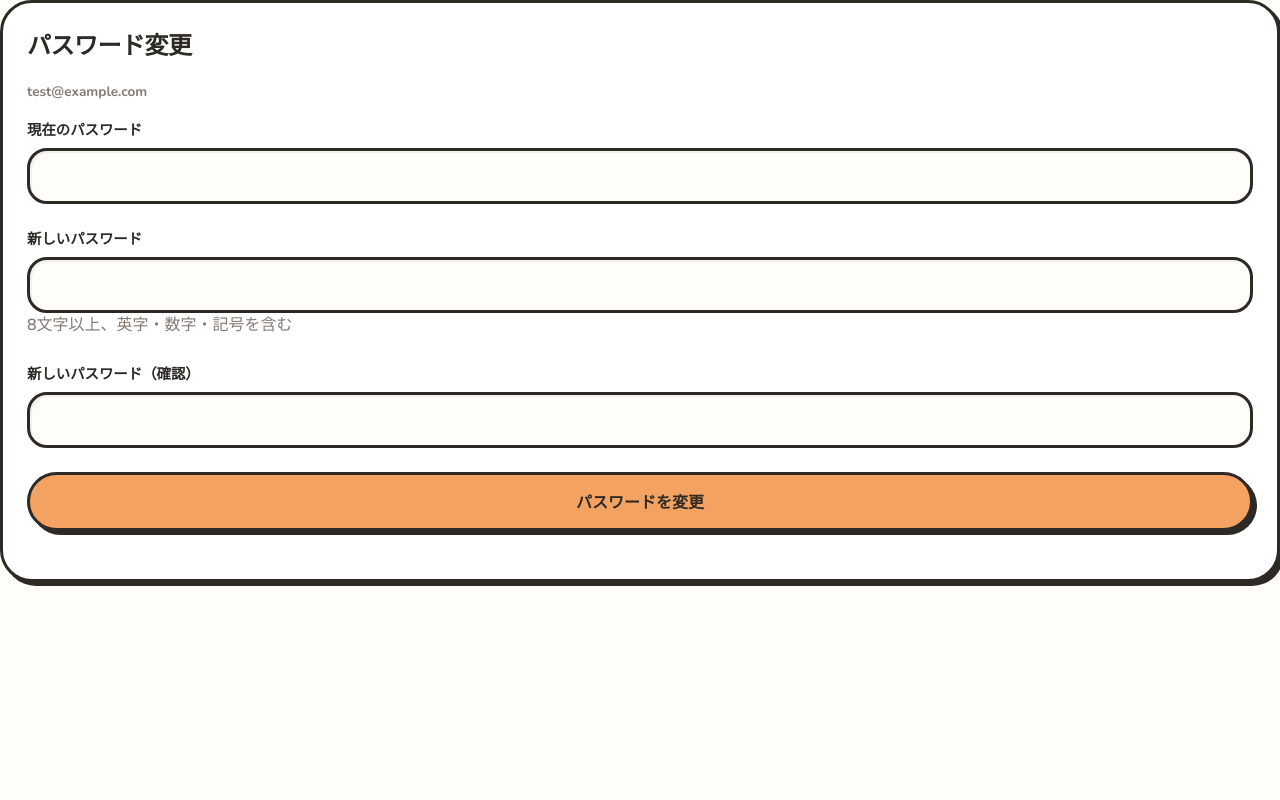
Test case: ChangePasswordPage › API連携 › 送信中はボタンがdisabledになる
Type "OldPass1!" into the password field labelled "現在のパスワード". click: (640, 176)
box: [27,148,1253,204]
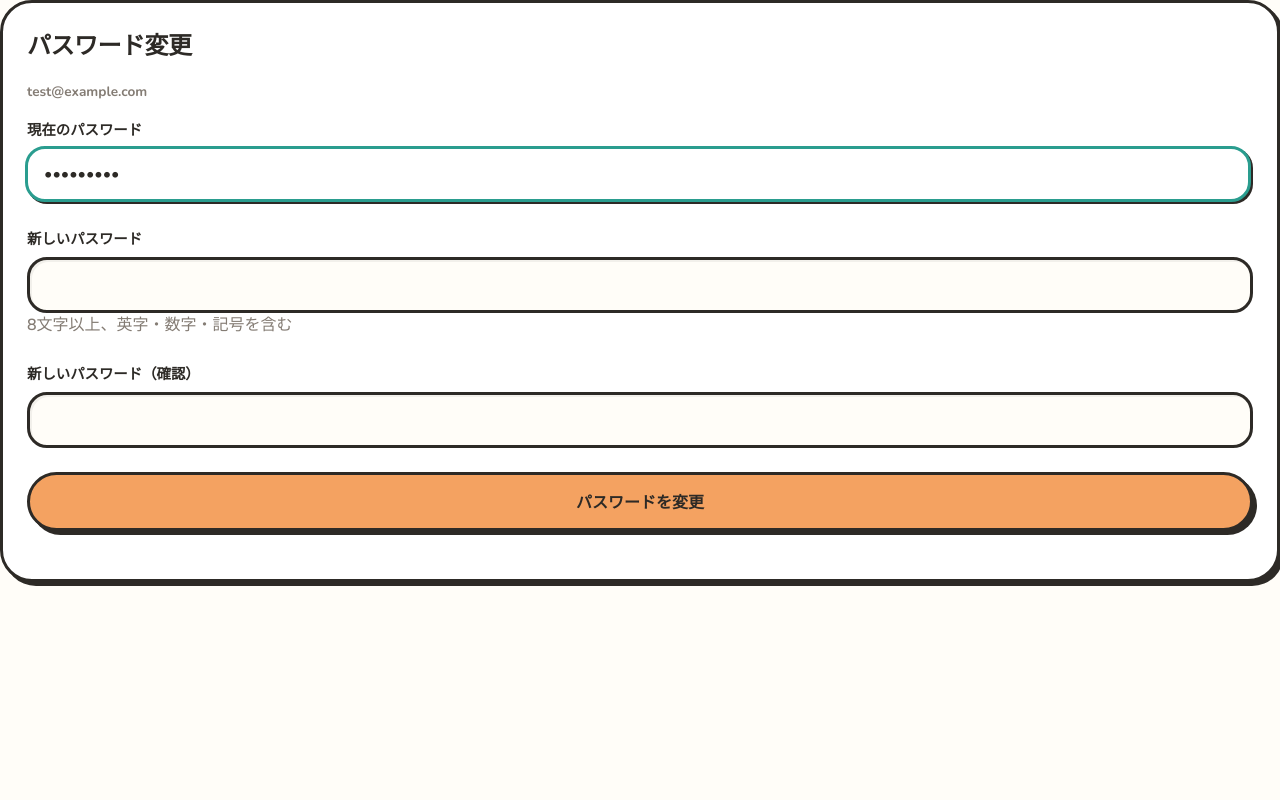
Type "NewPass1!" into the password field labelled "新しいパスワード". click: (640, 285)
box: [27,257,1253,313]
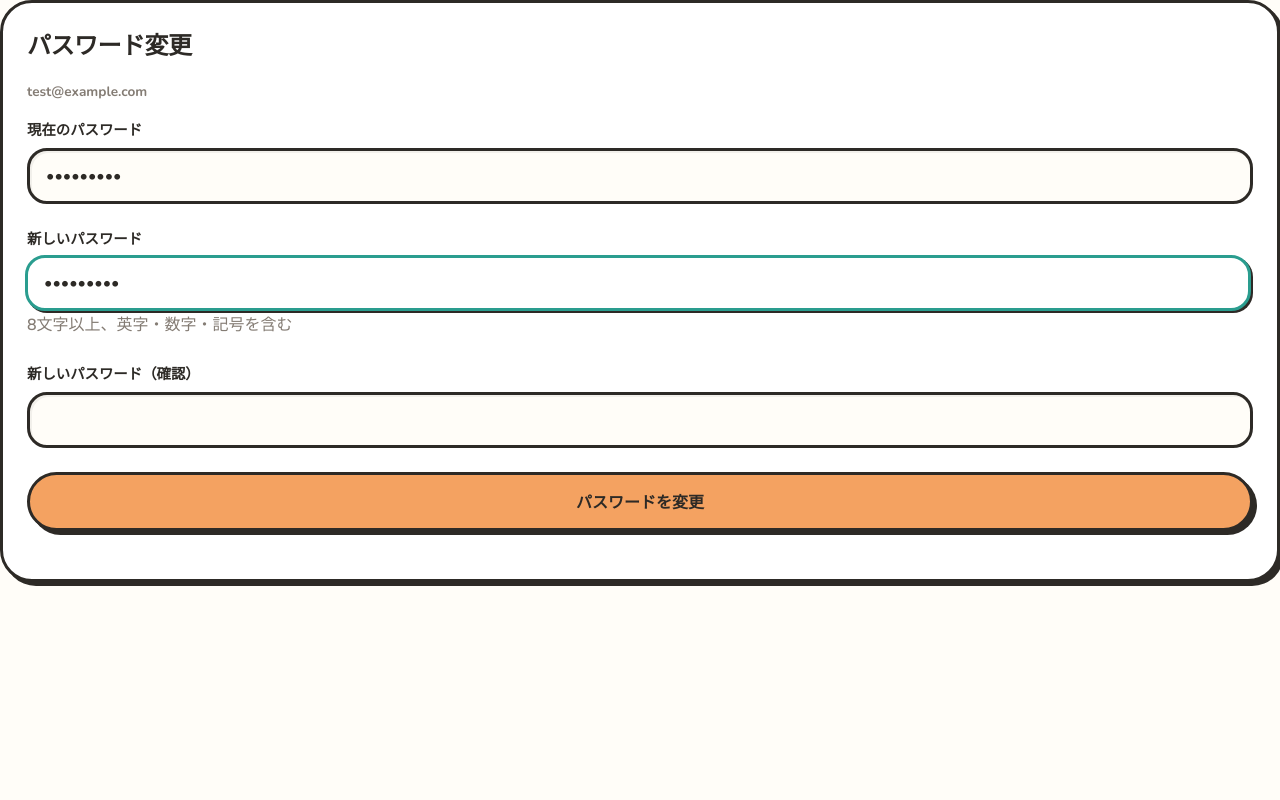
Type "NewPass1!" into the password field labelled "新しいパスワード（確認）". click: (640, 420)
box: [27,392,1253,448]
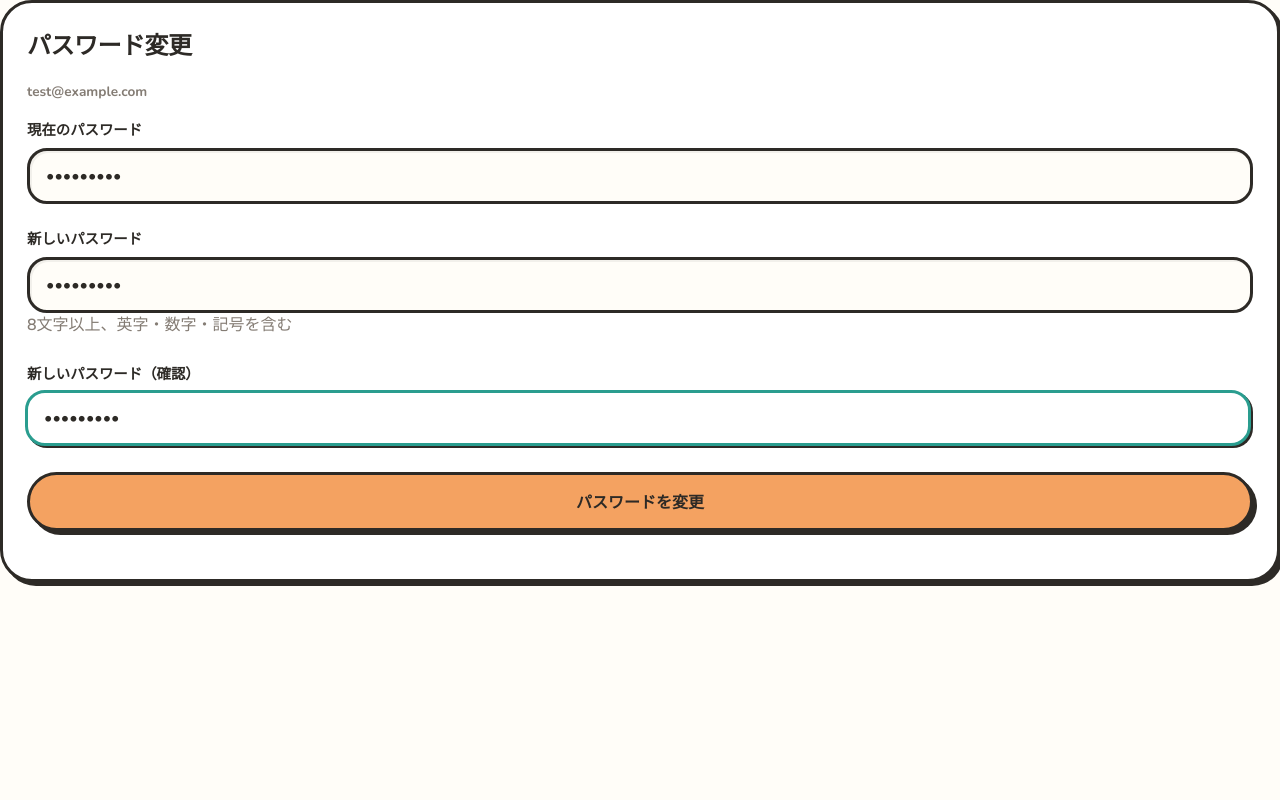
Click the button "パスワードを変更". click: click(640, 501)
box: [27,472,1253,531]
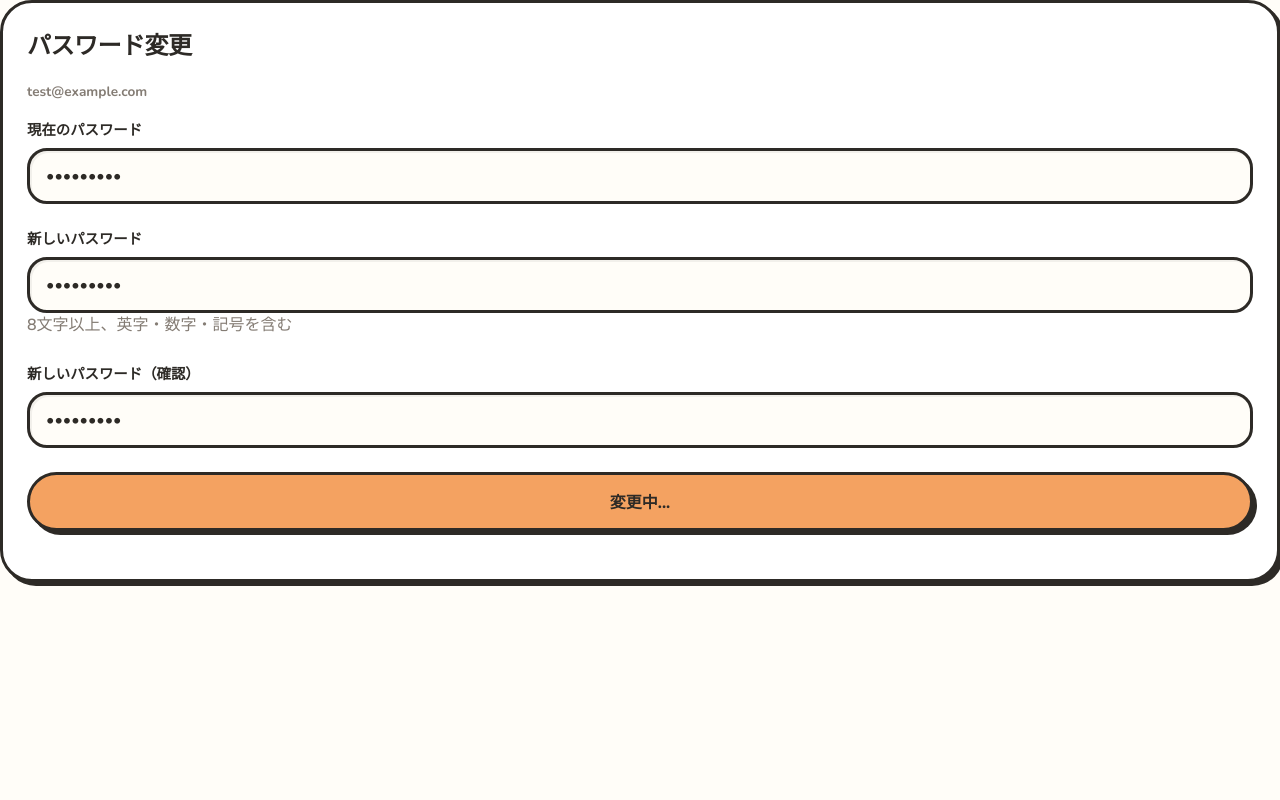
Check: the button "変更中..." is disabled, box [27,472,1253,531]
